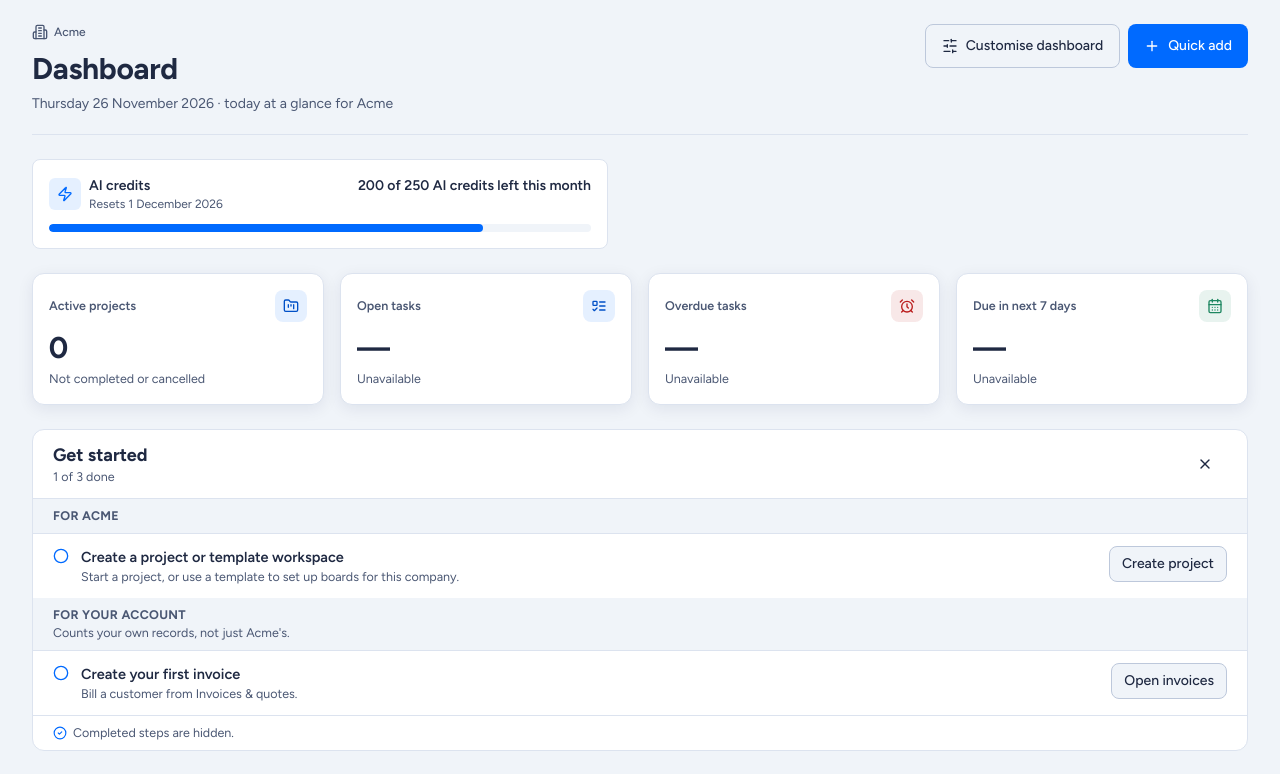
it: Dashboard › checklist uses real records, hides completed steps and can be dismissed per company
Expected: the text "1 of 3 done" is shown, [53,469,114,484]
Expected: the heading "For your account" is shown, [53,607,186,622]
Click the button named "Dismiss get started checklist" at (1205, 464), box [1183,442,1227,486]
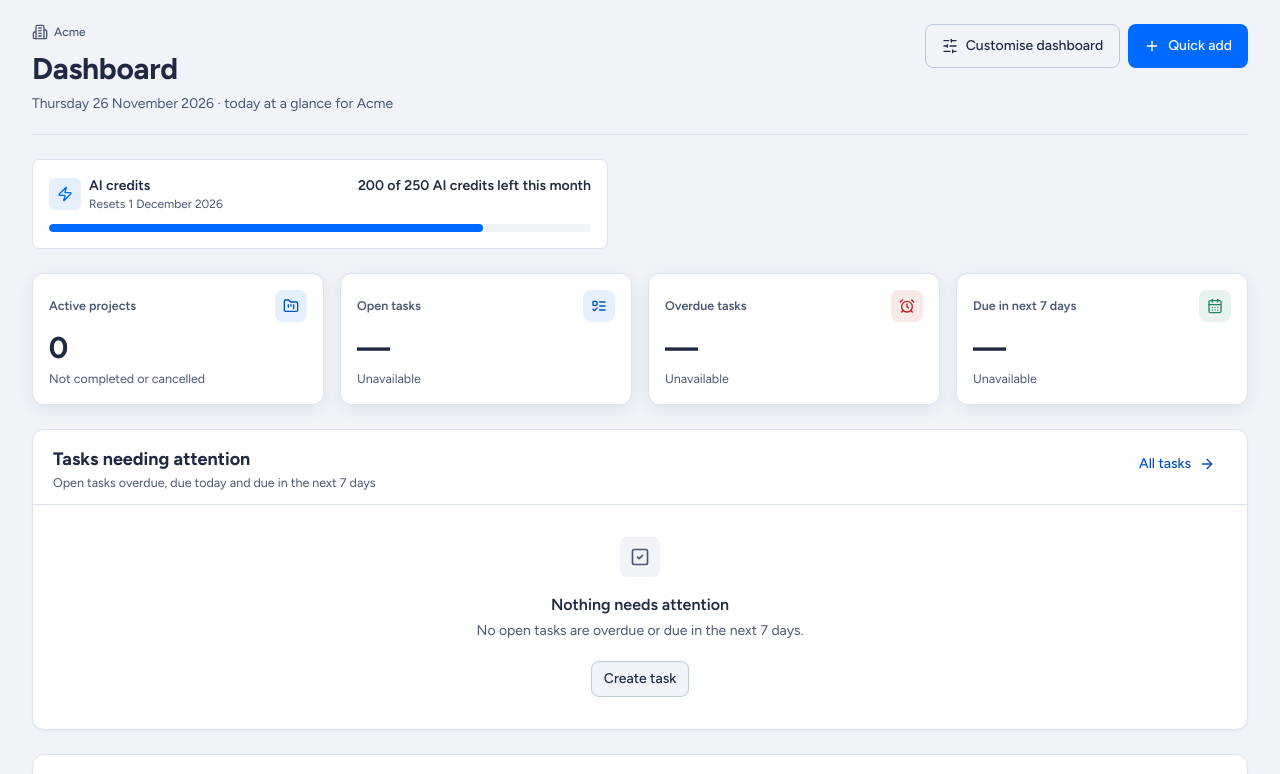
Result: the heading "Get started" is gone
